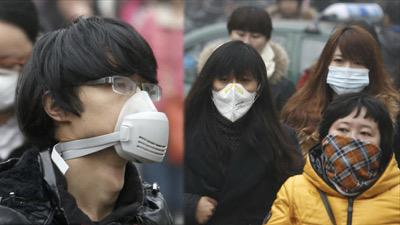with_mask: (56, 63, 170, 171), (317, 119, 382, 191), (209, 70, 260, 124), (326, 52, 370, 94), (0, 50, 25, 116)
without_mask: (227, 29, 267, 56)
